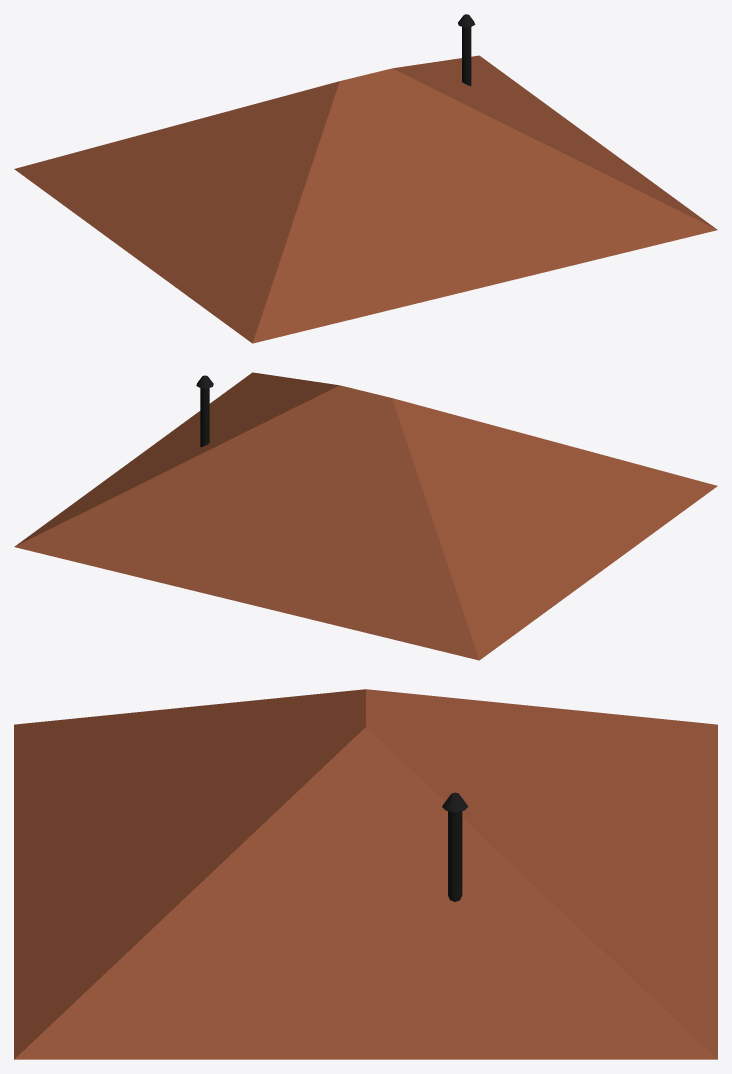
Rendered from bina_11_ust.glb.
3 renders of one model, top to bottom at view 1: azimuth 30°, elevation 25°; view 2: azimuth 150°, elevation 25°; view 3: azimuth 270°, elevation 25°, orthographic. The views are drawn at different scales.
Parts seen in each view (by area): view 1: P11_ust; view 2: P11_ust; view 3: P11_ust.
Boxes of the visible parts, x1,y1,x2,y2 form: P11_ust: (14, 14, 717, 343); P11_ust: (14, 372, 717, 660); P11_ust: (14, 689, 717, 1059).
Size of the model in its own units: 8.9 by 2.37 by 7.9.
